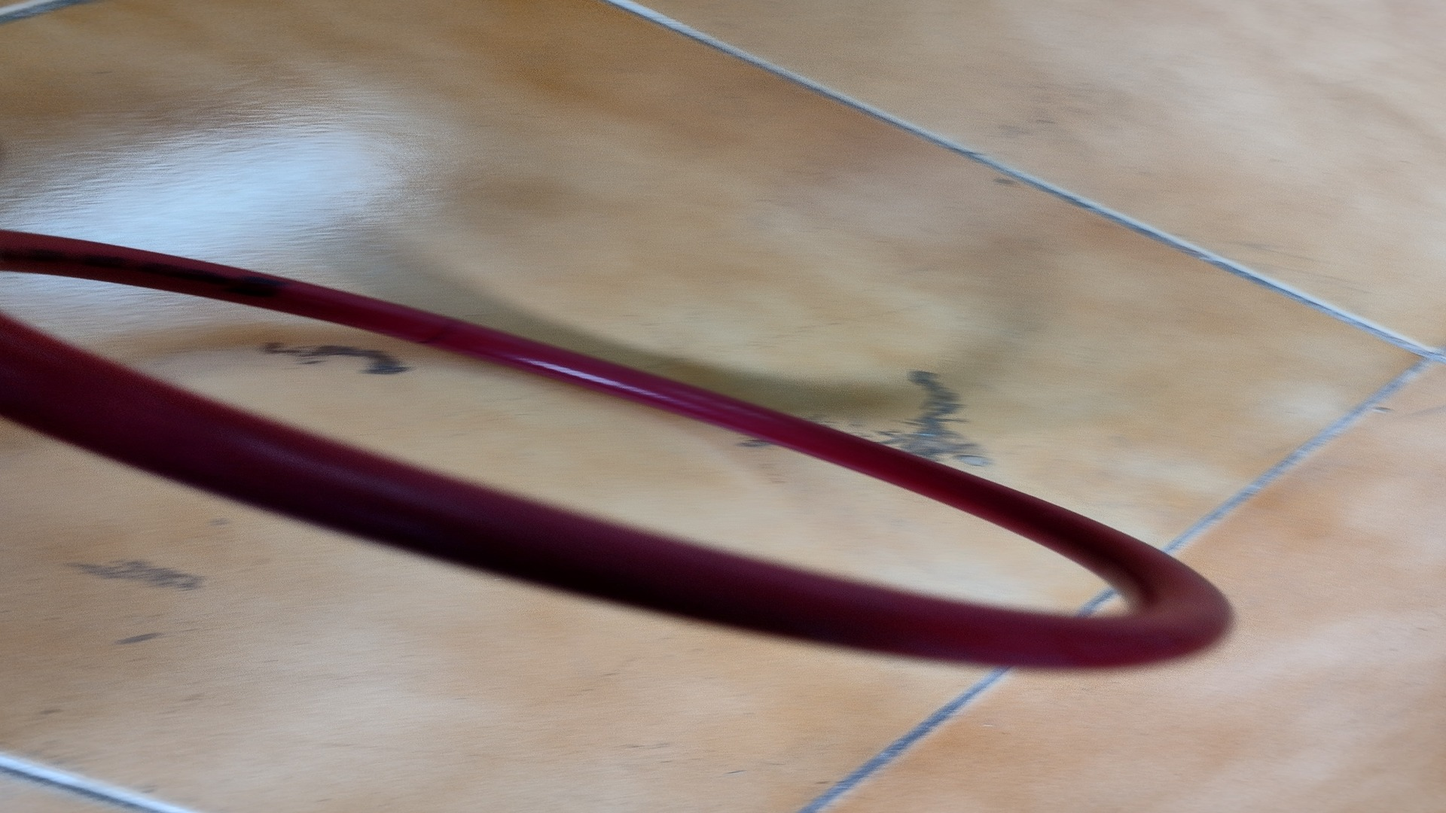Red ring: (1, 227, 1233, 678)
